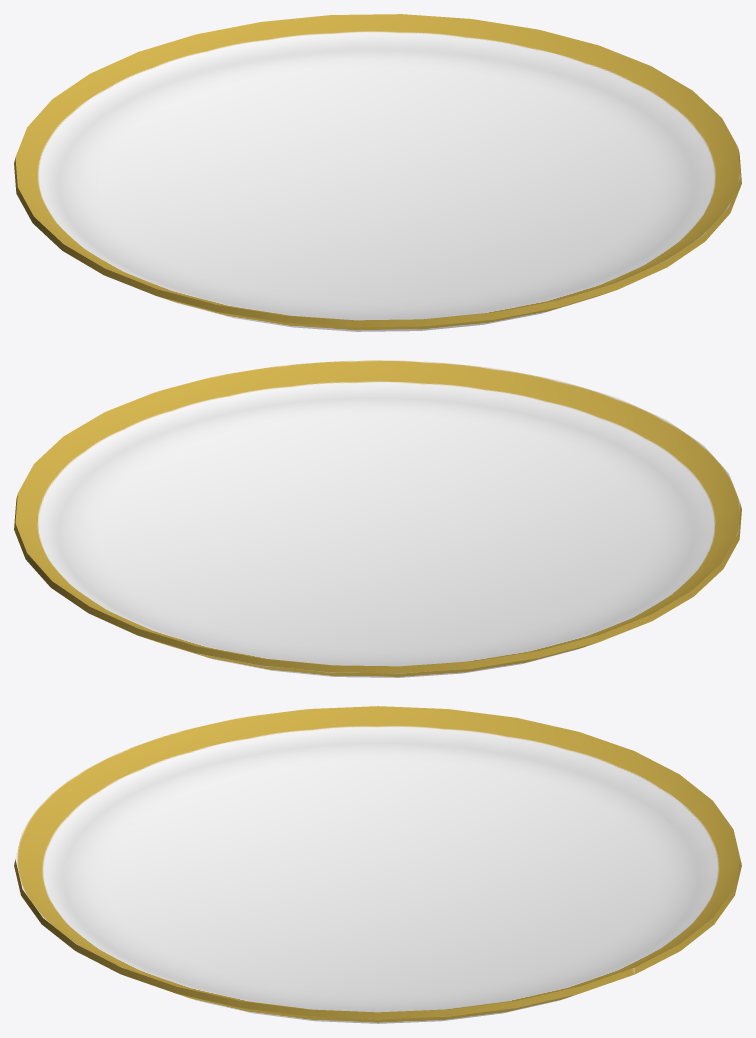
Rendered from Tabak.fbx.
3 renders of one model, top to bottom at view 1: azimuth 30°, elevation 25°; view 2: azimuth 150°, elevation 25°; view 3: azimuth 270°, elevation 25°, orthographic.
Parts seen in each view (by area): view 1: Circle; view 2: Circle; view 3: Circle.
Part boxes in pixels (box(x1,y1,x2,y2)): Circle: box(14, 14, 741, 331); Circle: box(14, 360, 741, 677); Circle: box(14, 706, 741, 1023).
Size of the model in its own units: 223 by 8.92 by 223.
